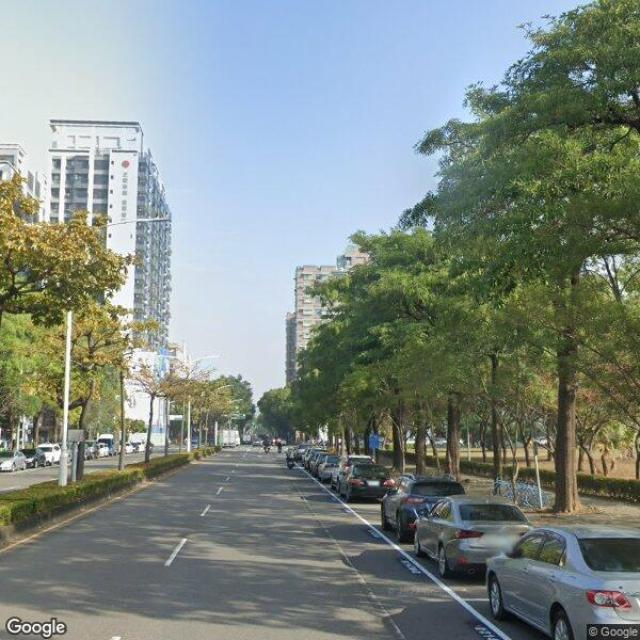Legalparking: (304, 451, 639, 639)
